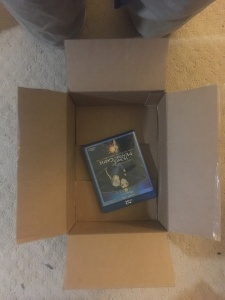innerbox: (65, 90, 167, 232)
outerbox: (17, 40, 221, 287)
product: (89, 133, 144, 204)
